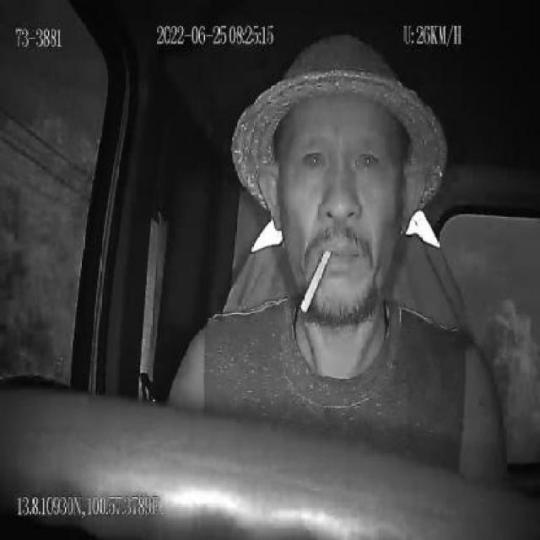smoking: (299, 246, 335, 327)
